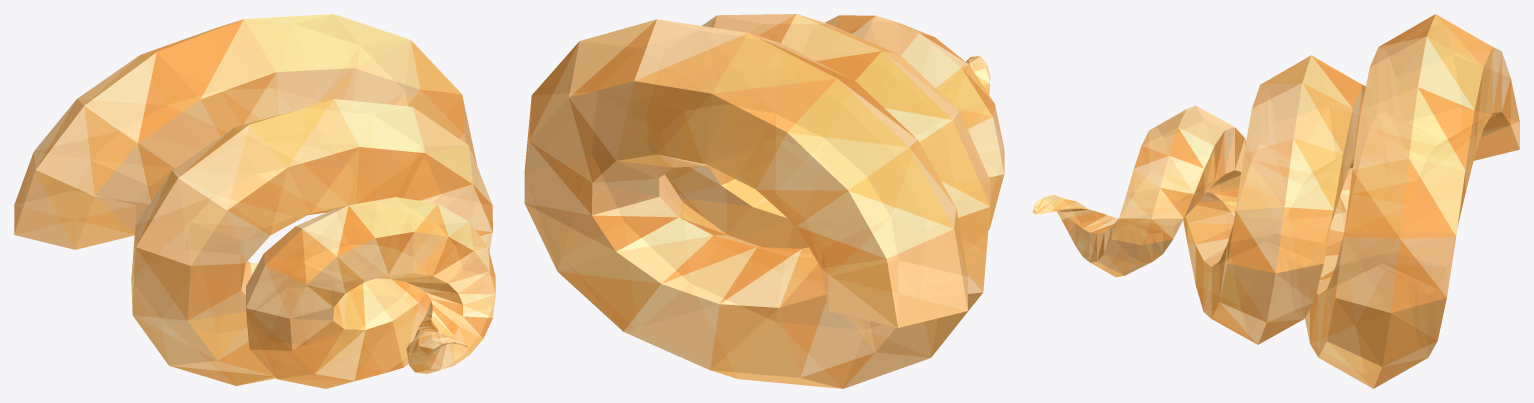
File: crystal_unpo_projectile.glb
3 renders of one model, left to right at view 1: azimuth 30°, elevation 25°; view 2: azimuth 150°, elevation 25°; view 3: azimuth 270°, elevation 25°, orthographic. The views are drawn at different scales.
Parts seen in each view (by area): view 1: Amber spiral crystal; view 2: Amber spiral crystal; view 3: Amber spiral crystal.
Boxes of the visible parts, x1,y1,x2,y2 form: Amber spiral crystal: (14,14,495,388); Amber spiral crystal: (524,14,1004,388); Amber spiral crystal: (1033,14,1519,388).
Size of the model in its own units: 1.69 by 1.28 by 1.77.
